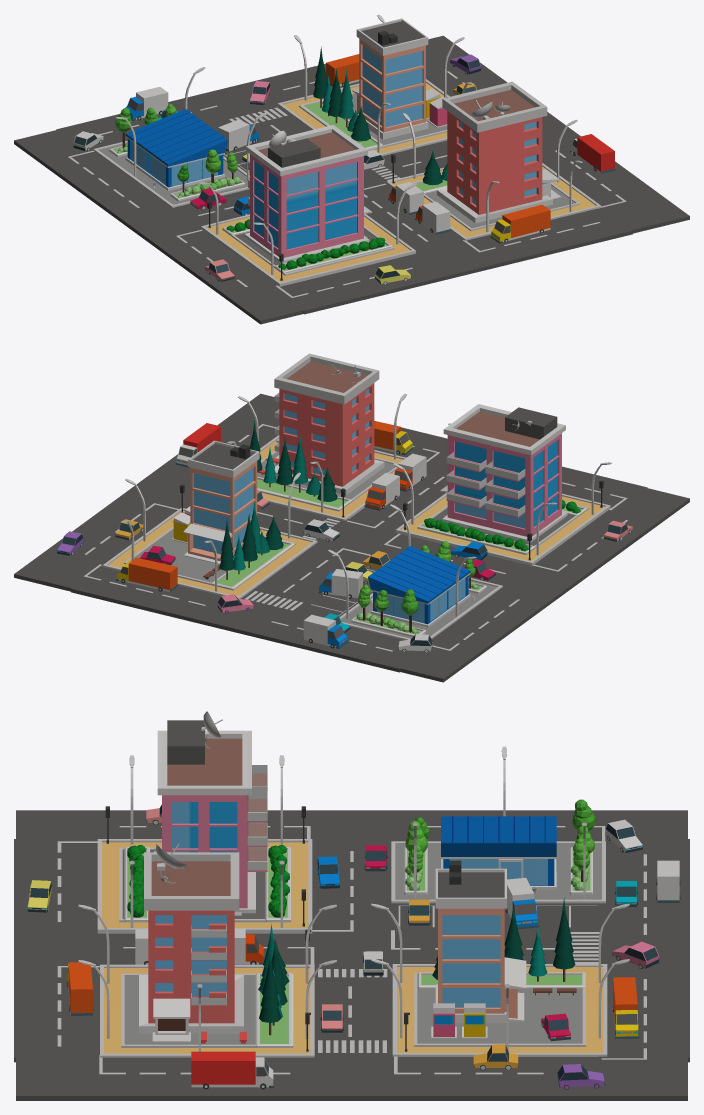
The picture shows the model from 3 angles, top to bottom: view 1: azimuth 30°, elevation 25°; view 2: azimuth 150°, elevation 25°; view 3: azimuth 270°, elevation 25°; orthographic projection. The views are drawn at different scales.
Visible parts, largest first — view 1: ROAD.001, House.004, House.005, House.003, Shop.001, Floor.010, ROAD.Lines.12, Floor.012, Floor.015, Car_08.010, Floor.009, Car_08.011 (+12 smaller); view 2: ROAD.001, House.004, House.005, House.003, Shop.001, Floor.010, Floor.009, ROAD.Lines.12, Floor.012, Floor.008, Car_08.012, Floor.015 (+14 smaller); view 3: ROAD.001, House.005, House.004, House.003, Shop.001, Floor.009, Floor.015, Floor.008, Floor.010, ROAD.Lines.12, Floor.012, Floor.014 (+29 smaller).
Part boxes in pixels (left/top/right/bottom): ROAD.001: left=14, top=35, right=689, bottom=324; House.004: left=244, top=125, right=372, bottom=263; House.005: left=437, top=81, right=561, bottom=223; House.003: left=352, top=18, right=428, bottom=139; Shop.001: left=125, top=109, right=228, bottom=190; Floor.010: left=201, top=213, right=415, bottom=286; ROAD.Lines.12: left=68, top=71, right=626, bottom=297; Floor.012: left=93, top=140, right=249, bottom=207; Floor.015: left=386, top=163, right=601, bottom=240; Car_08.010: left=490, top=204, right=550, bottom=243; Floor.009: left=277, top=79, right=449, bottom=155; Car_08.011: left=570, top=134, right=615, bottom=173; ROAD.001: left=14, top=393, right=689, bottom=682; House.004: left=440, top=404, right=567, bottom=542; House.005: left=274, top=353, right=384, bottom=494; House.003: left=183, top=440, right=259, bottom=564; Shop.001: left=368, top=546, right=470, bottom=627; Floor.010: left=395, top=492, right=610, bottom=565; Floor.009: left=102, top=507, right=317, bottom=598; ROAD.Lines.12: left=84, top=424, right=627, bottom=651; Floor.012: left=339, top=578, right=502, bottom=640; Floor.008: left=124, top=526, right=296, bottom=590; Car_08.012: left=116, top=557, right=177, bottom=591; Floor.015: left=260, top=435, right=406, bottom=520; ROAD.001: left=14, top=810, right=689, bottom=1100; House.005: left=139, top=852, right=243, bottom=1042; House.004: left=154, top=720, right=267, bottom=915; House.003: left=435, top=860, right=526, bottom=1022; Shop.001: left=441, top=816, right=556, bottom=889; Floor.009: left=392, top=964, right=607, bottom=1056; Floor.015: left=100, top=964, right=314, bottom=1057; Floor.008: left=414, top=972, right=585, bottom=1046; Floor.010: left=97, top=839, right=312, bottom=933; ROAD.Lines.12: left=57, top=826, right=646, bottom=1074; Floor.012: left=391, top=841, right=605, bottom=903; Floor.014: left=121, top=973, right=292, bottom=1047.
Size of the model in its own units: 144 by 39.89 by 144.
4 materials, 2 textured.
